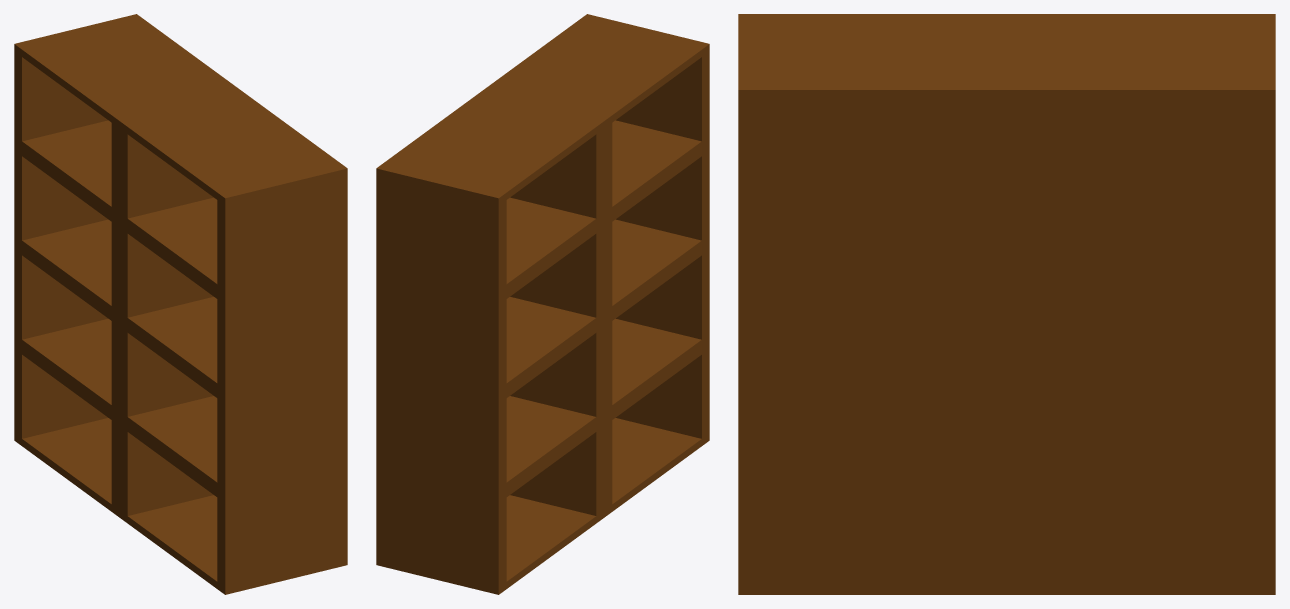
File: lemari penyimpanan toples bibit.fbx
The picture shows the model from 3 angles, left to right: view 1: azimuth 30°, elevation 25°; view 2: azimuth 150°, elevation 25°; view 3: azimuth 270°, elevation 25°; orthographic projection. The views are drawn at different scales.
Visible parts, largest first — view 1: Cube.022, Cube.033; view 2: Cube.033, Cube.022; view 3: Cube.033, Cube.022.
Boxes of the visible parts, left/top/right/bottom form: Cube.022: left=119, top=91, right=347, bottom=594; Cube.033: left=14, top=14, right=241, bottom=517; Cube.033: left=376, top=91, right=604, bottom=594; Cube.022: left=482, top=14, right=709, bottom=517; Cube.033: left=1007, top=14, right=1275, bottom=594; Cube.022: left=738, top=14, right=1006, bottom=594.
Size of the model in its own units: 430 by 1331 by 1283.
